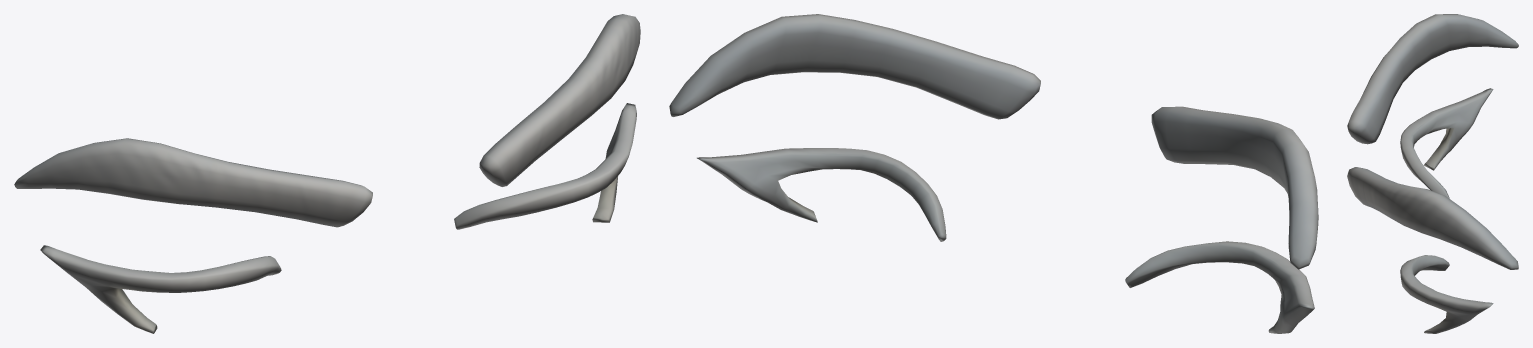
The model's file is Eyebrows_Female.gltf.
The picture shows the model from 3 angles, left to right: view 1: azimuth 30°, elevation 25°; view 2: azimuth 150°, elevation 25°; view 3: azimuth 270°, elevation 25°; orthographic projection. The views are drawn at different scales.
Visible parts, largest first — view 1: Eyebrows_Female; view 2: Eyebrows_Female; view 3: Eyebrows_Female.
Part boxes in pixels (x1,y1,x2,y2): Eyebrows_Female: [14, 14, 640, 333]; Eyebrows_Female: [669, 14, 1318, 333]; Eyebrows_Female: [1347, 14, 1518, 333].
Bounding box in the file's own units: 0.126 × 0.0376 × 0.0403.
1 material, 1 textured.
